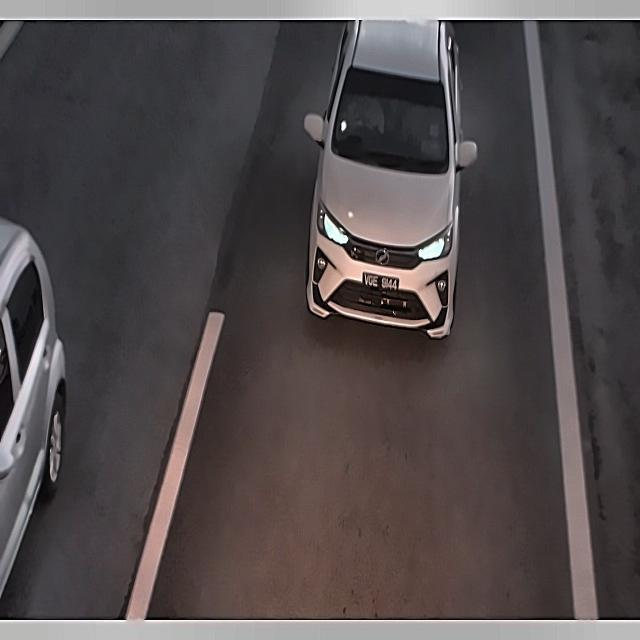car: (358, 266, 403, 299)
